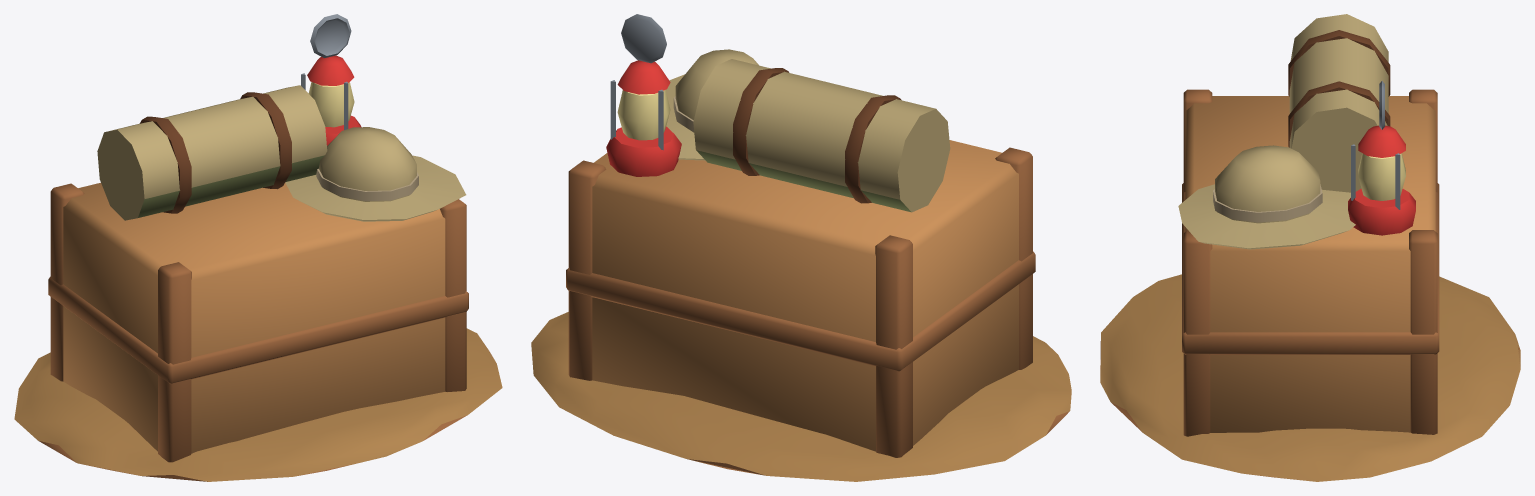
The model's file is SafariCrate.fbx.
3 views of the same model, side by side, from view 1: azimuth 30°, elevation 25°; view 2: azimuth 150°, elevation 25°; view 3: azimuth 270°, elevation 25° (orthographic). The views are drawn at different scales.
Visible parts, largest first — view 1: SafariCrate; view 2: SafariCrate; view 3: SafariCrate.
Part boxes in pixels (x1=…): SafariCrate: x1=14, y1=14, x2=502, y2=481; SafariCrate: x1=531, y1=14, x2=1071, y2=481; SafariCrate: x1=1100, y1=14, x2=1520, y2=481.
Size of the model in its own units: 1.5 by 1.05 by 1.18.
Materials: 2 (2 with a texture image).
